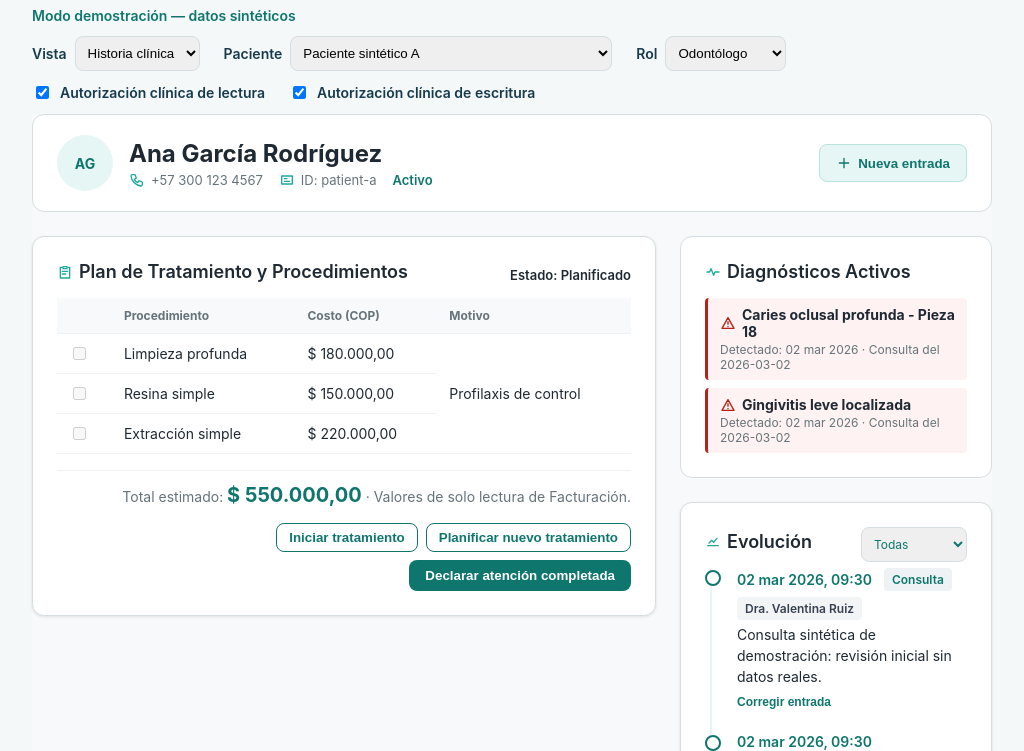
Scenario: ClinicalPortalComposition › switches demo patients and appends a consultation to the selected history
Expected: the text "Consulta sintética de demostración: revisión inicial sin datos reales." is shown, [737,624,967,686]
Select "Paciente sintético B" in the dropdown labelled "Paciente": (451, 54) [290,36,612,71]
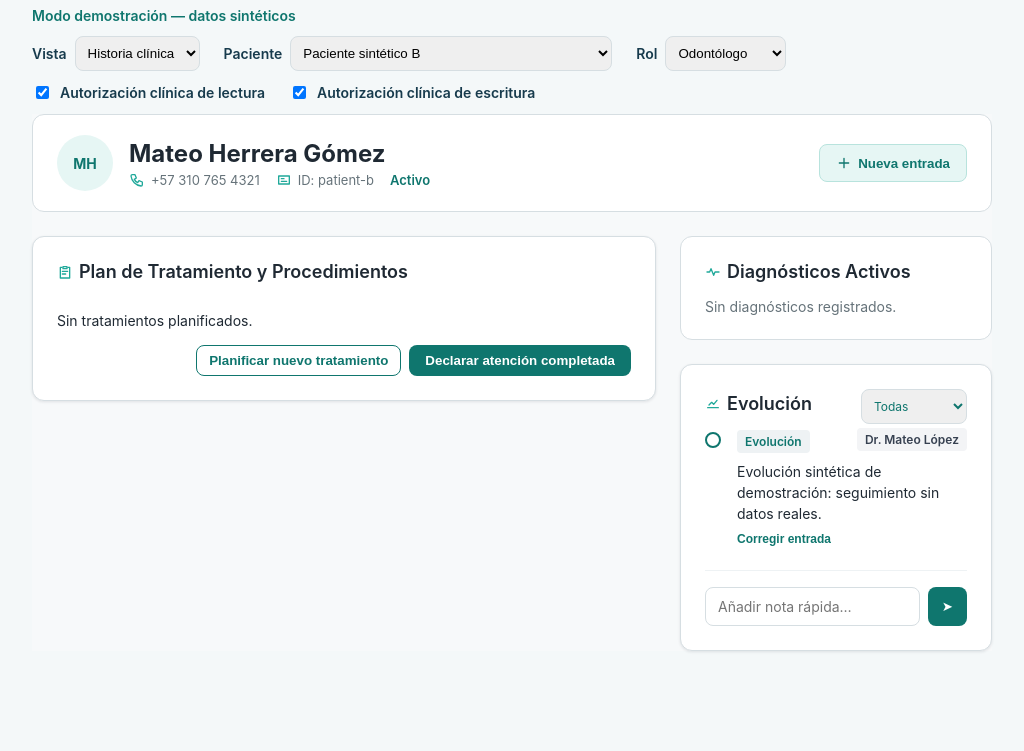
Now the text "Evolución sintética de demostración: seguimiento sin datos reales." is shown, box [737,460,967,524]
Now the text "Consulta sintética de demostración: revisión inicial sin datos reales." is gone
Select "Paciente sintético A" in the dropdown labelled "Paciente": (451, 54) [290,36,612,71]
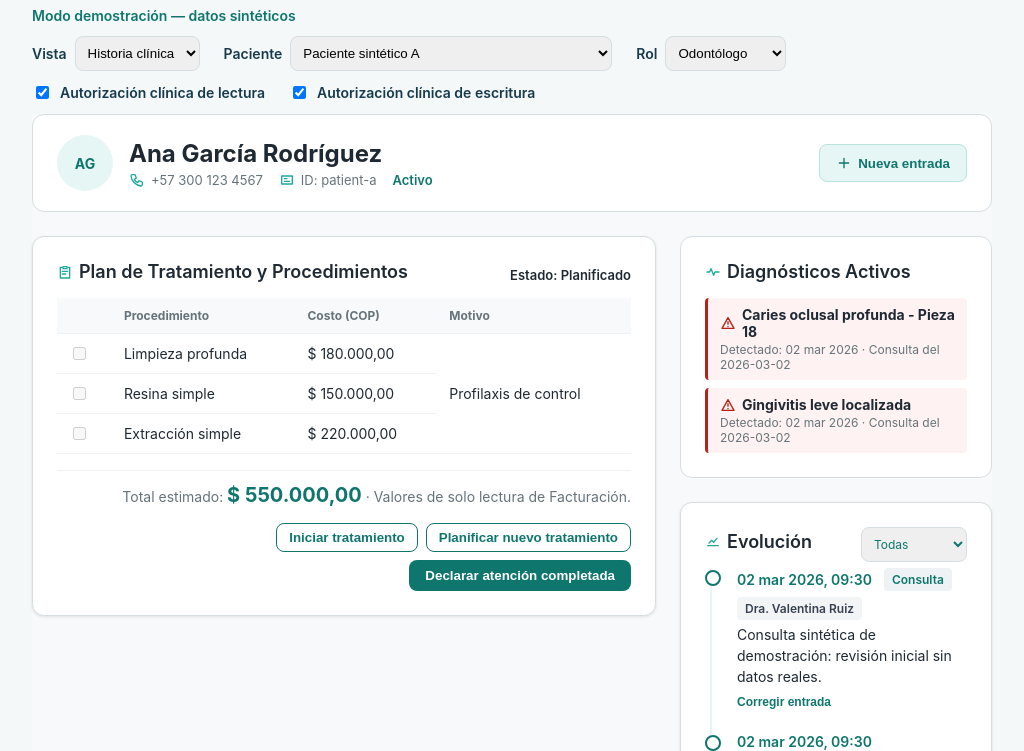
Now the text "Consulta sintética de demostración: revisión inicial sin datos reales." is shown, box [737,624,967,686]
Click the button "Nueva entrada": (893, 163) [819,144,967,182]
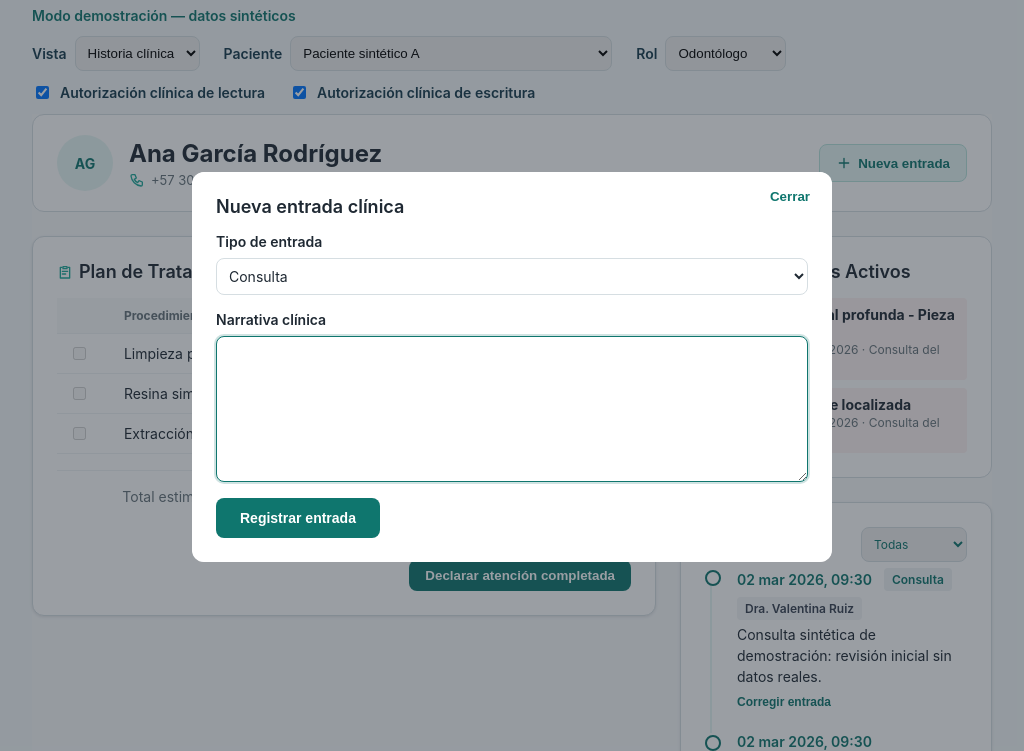
In the text box labelled "Narrativa clínica": (512, 409) [216,336,808,482], type "Consulta agregada"
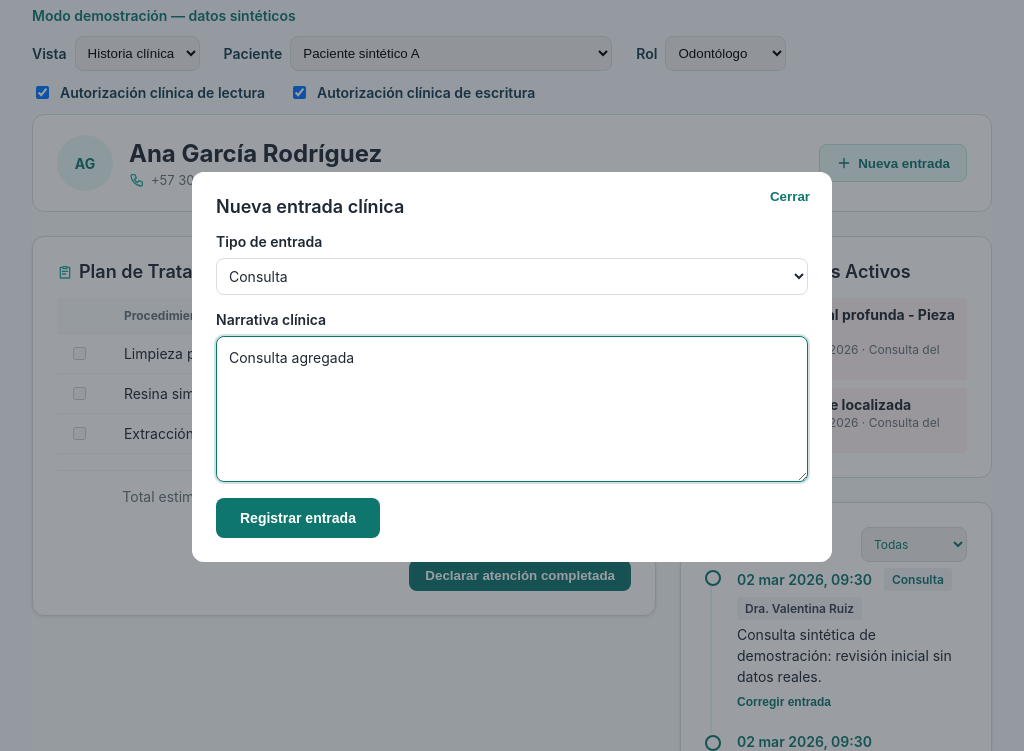
Click the button "Registrar entrada": (298, 518) [216,498,380,538]
(page scrolled)
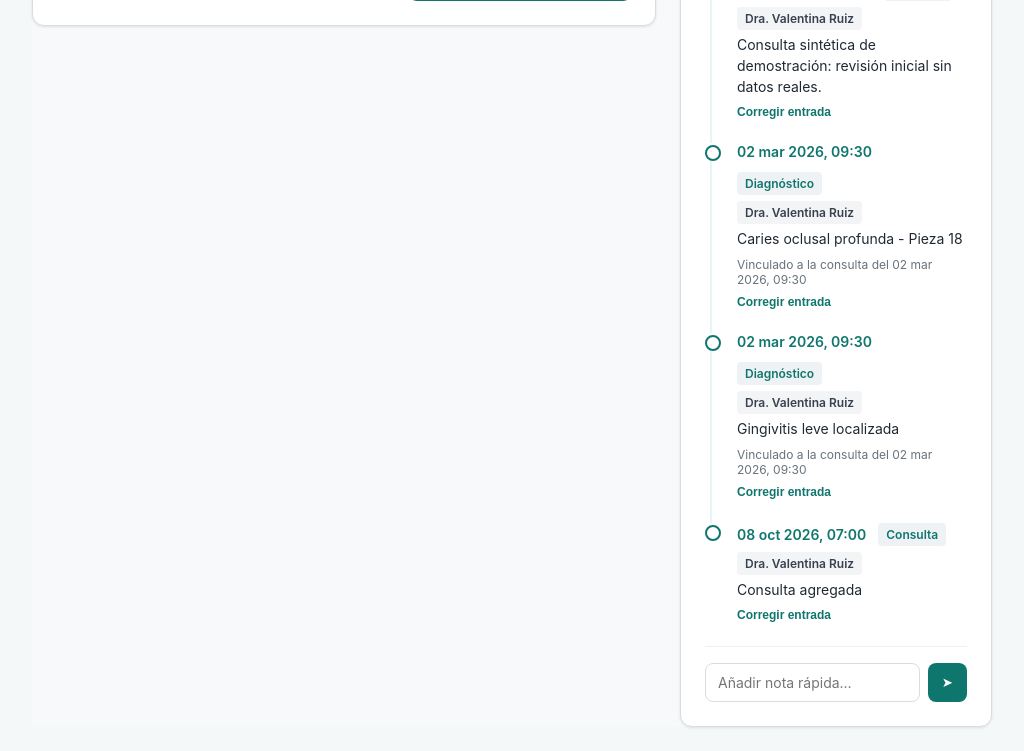
Now the text "Consulta agregada" is shown, box [736,580,862,598]
